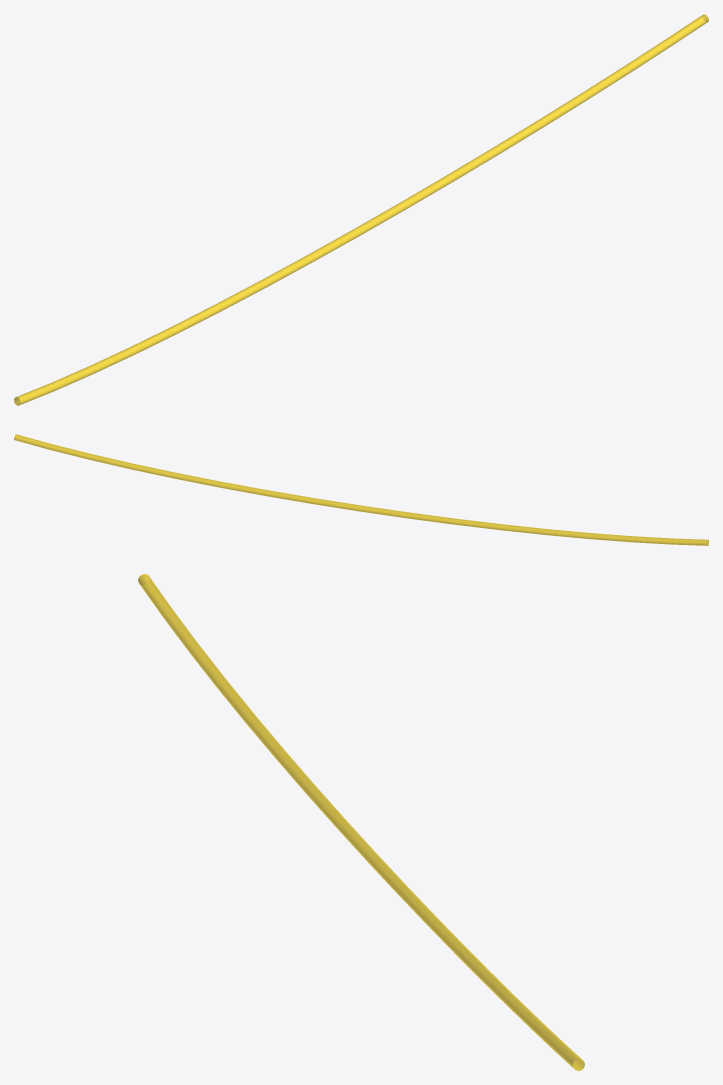
File: Event_419990632_track_87.fbx
3 views of the same model, one above another, from view 1: azimuth 30°, elevation 25°; view 2: azimuth 150°, elevation 25°; view 3: azimuth 270°, elevation 25° (orthographic). The views are drawn at different scales.
Visible parts, largest first — view 1: Model; view 2: Model; view 3: Model.
Part boxes in pixels (left/top/right/bottom): Model: left=14, top=14, right=708, bottom=405; Model: left=14, top=434, right=708, bottom=545; Model: left=138, top=574, right=584, bottom=1070.
Bounding box in the file's own units: 4.35 × 0.3654 × 1.43.
